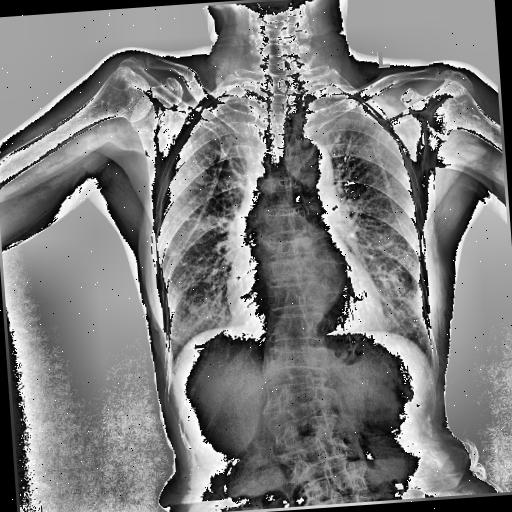0- Aortic enlargement: (284, 140, 334, 192), (288, 136, 334, 189), (290, 138, 335, 189)
11- Pleural thickening: (198, 91, 256, 111), (321, 86, 369, 110)
3- Cardiomegaly: (226, 257, 384, 340), (224, 270, 384, 342), (224, 272, 386, 340)
8- Nodule-Mass: (188, 304, 198, 316)
9- Other lesion: (188, 304, 198, 316)
